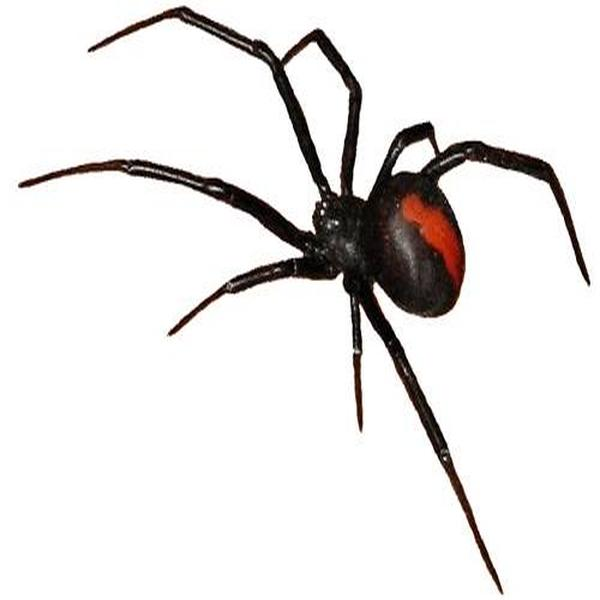Redback Spider: (17, 6, 590, 582)
